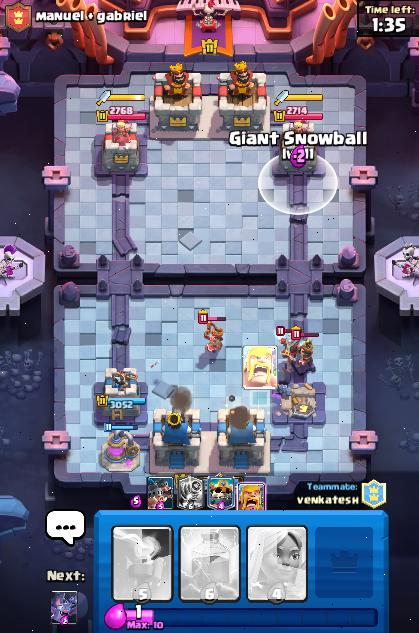EIceWizard: (282, 333, 295, 362)
EKingTower: (151, 71, 204, 134), (216, 71, 267, 132)
ELittlePrince: (205, 322, 223, 353), (297, 341, 315, 368)
EnemyDagTower: (98, 120, 139, 173), (278, 120, 319, 173)
OPump: (100, 428, 141, 474)
OwnKingTower: (150, 406, 203, 471), (216, 406, 267, 472)
OwnPrincessTower: (93, 368, 147, 427)
TowerDown: (270, 379, 325, 426)
